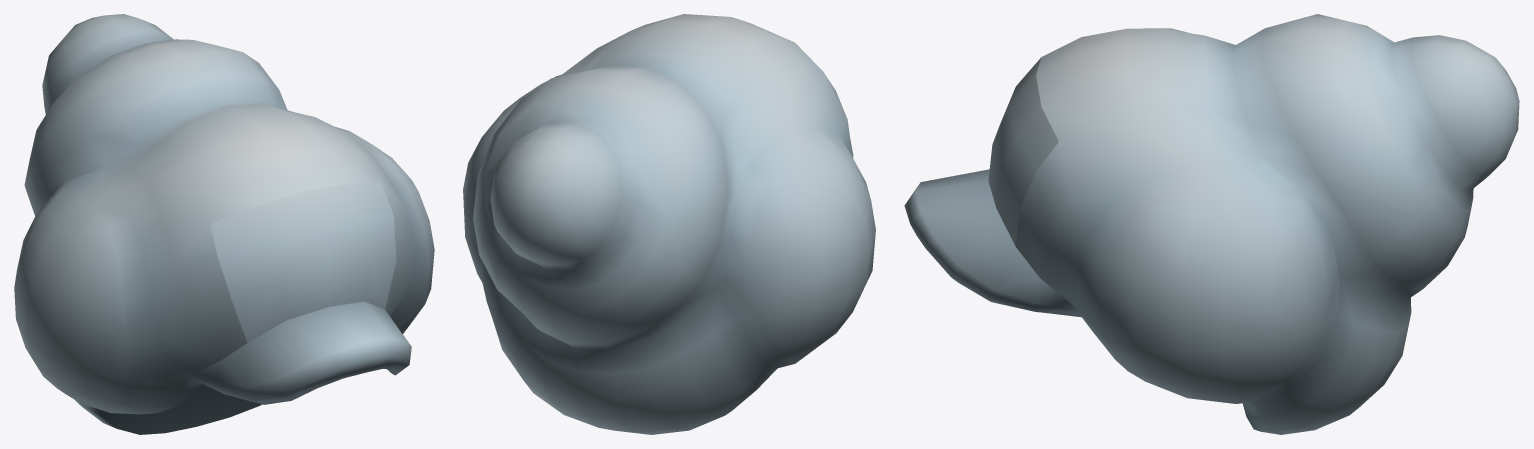
File: Head_Luigi.fbx
3 views of the same model, side by side, from view 1: azimuth 30°, elevation 25°; view 2: azimuth 150°, elevation 25°; view 3: azimuth 270°, elevation 25° (orthographic). The views are drawn at different scales.
Visible parts, largest first — view 1: mesh-1; view 2: mesh-1; view 3: mesh-1.
Boxes of the visible parts, x1,y1,x2,y2 form: mesh-1: (14,14,434,434); mesh-1: (463,14,875,434); mesh-1: (904,14,1519,434).
Bounding box in the file's own units: 899 × 815 × 1188.
